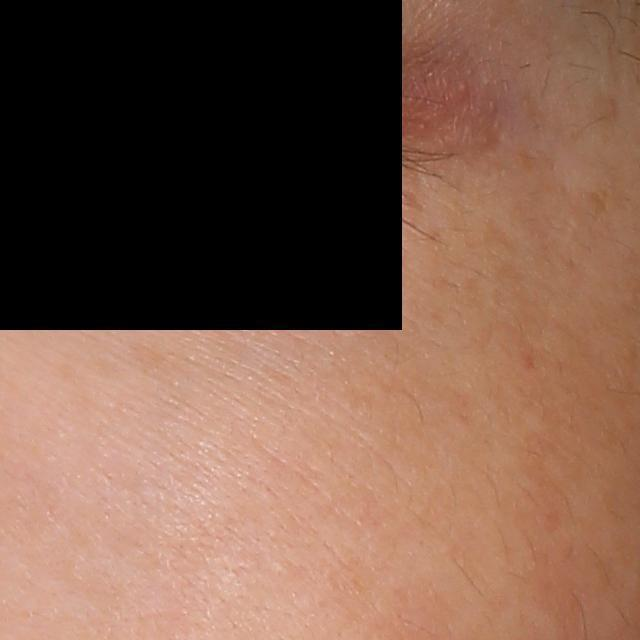melasma: (579, 185, 611, 216)
